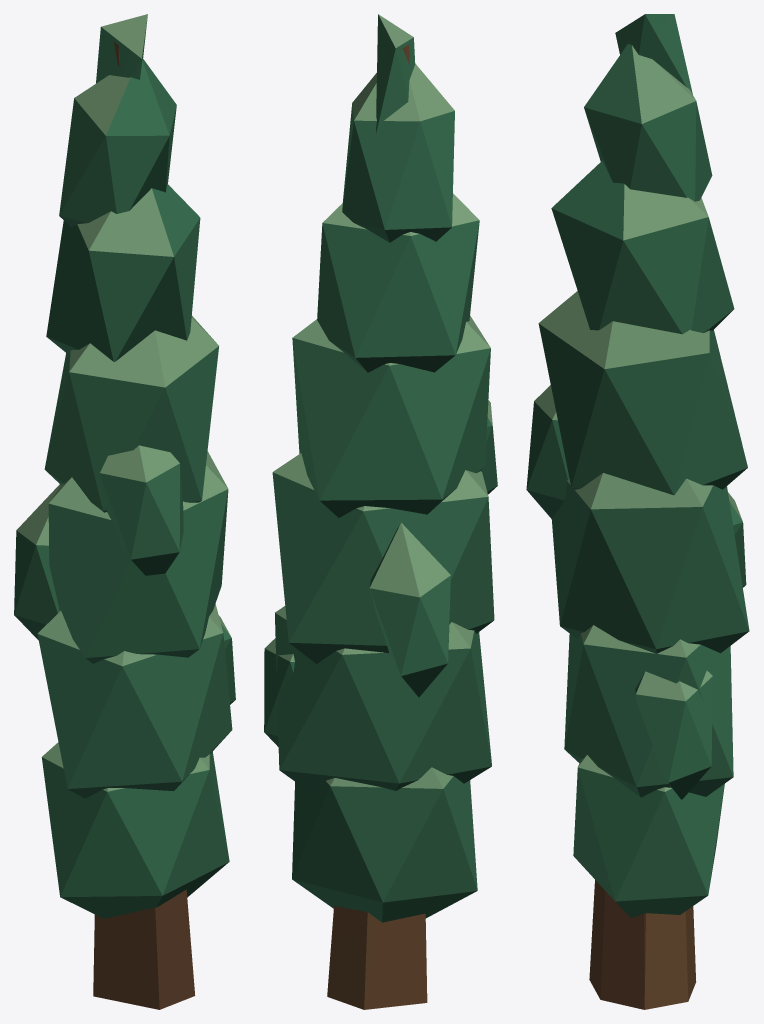
3 views of the same model, side by side, from view 1: azimuth 30°, elevation 25°; view 2: azimuth 150°, elevation 25°; view 3: azimuth 270°, elevation 25° (orthographic).
Parts seen in each view (by area): view 1: WK_Tree_Cypress_AncientDark_LOD1_Balanced; view 2: WK_Tree_Cypress_AncientDark_LOD1_Balanced; view 3: WK_Tree_Cypress_AncientDark_LOD1_Balanced.
Boxes of the visible parts, x1,y1,x2,y2 form: WK_Tree_Cypress_AncientDark_LOD1_Balanced: (14, 14, 235, 1009); WK_Tree_Cypress_AncientDark_LOD1_Balanced: (264, 14, 497, 1009); WK_Tree_Cypress_AncientDark_LOD1_Balanced: (526, 14, 749, 1009).
Bounding box in the file's own units: 1.55 × 7.03 × 1.46.
